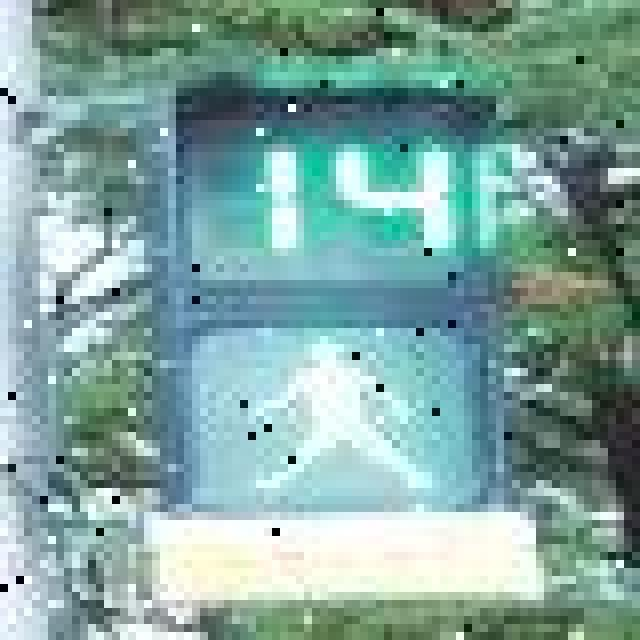greenlight: (161, 91, 507, 522)
